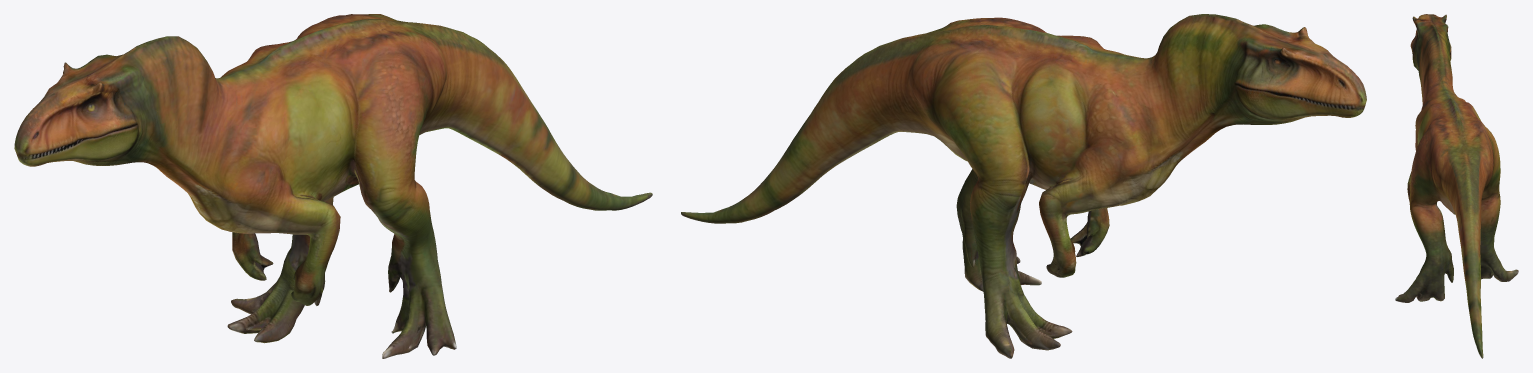
3 views of the same model, side by side, from view 1: azimuth 30°, elevation 25°; view 2: azimuth 150°, elevation 25°; view 3: azimuth 270°, elevation 25° (orthographic). The views are drawn at different scales.
Parts seen in each view (by area): view 1: Mesh0; view 2: Mesh0; view 3: Mesh0.
Part boxes in pixels (x1,y1,x2,y2): Mesh0: (14,14,652,358); Mesh0: (681,14,1366,358); Mesh0: (1395,14,1518,358).
Bounding box in the file's own units: 1.4 × 0.7042 × 0.3863.
Materials: 1 (1 with a texture image).
